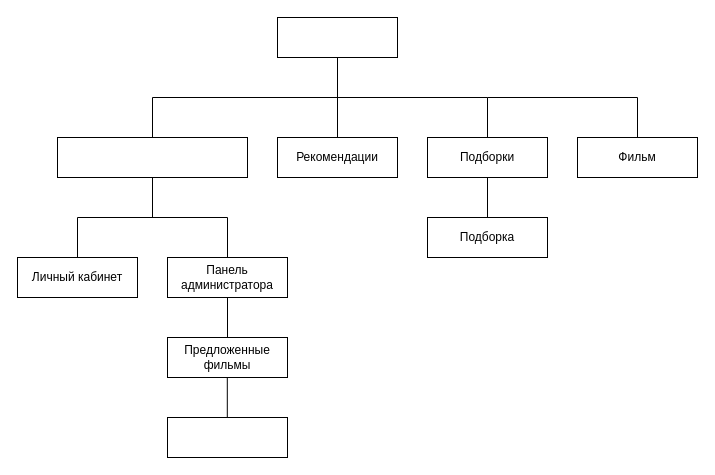
Image size: 715x475. Some labels were removed from this diagram. Each missing label, with the box of its shape:
Авторизация / регистрация: (56, 136, 248, 178)
Главная: (276, 16, 398, 58)
Предложенный фильм: (166, 416, 288, 458)
